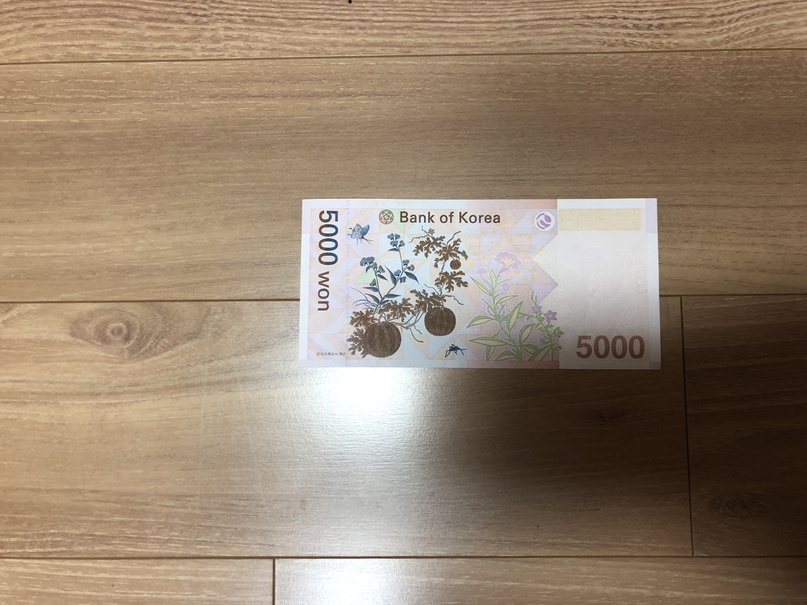5000won: (299, 198, 659, 371)
